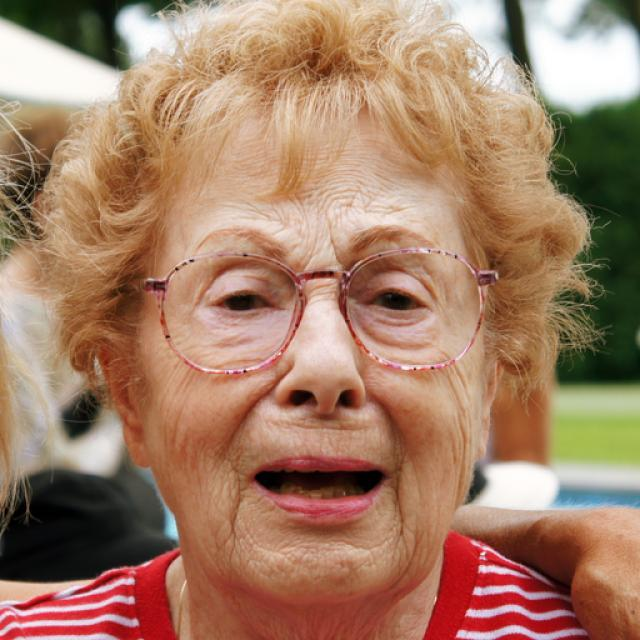surprise: (141, 123, 489, 602)
